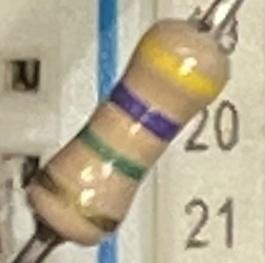Blue: (104, 76, 187, 148)
Green: (73, 121, 152, 189)
Side-Silver: (31, 159, 125, 240)
Yellow: (132, 26, 226, 106)
